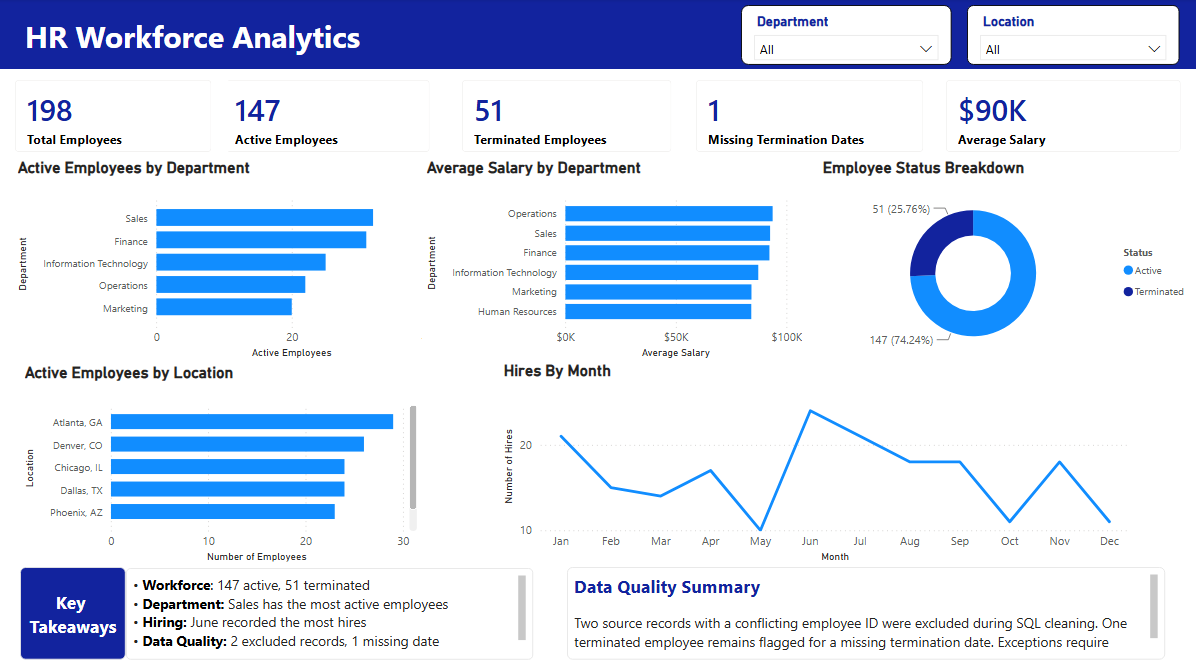

The dashboard page shown, as its layout file describes it:
{"tool":"powerbi","page":{"name":"Page 1","canvas":[1280,720],"ordinal":0},"visuals":[{"type":"cardVisual","fields":{"Data":["employees_clean.Active Headcount"]},"box":[222.2,69.4,255.3,111.1],"z":0},{"type":"cardVisual","fields":{"Data":["employees_clean.Total Employees"]},"box":[0,69.4,244.6,111.1],"z":1000},{"type":"cardVisual","fields":{"Data":["employees_clean.Terminated Employees"]},"box":[477.5,69.4,258.5,111.1],"z":2000},{"type":"cardVisual","fields":{"Data":["employees_clean.Average Salary"]},"box":[994.5,69.4,285.2,111.1],"z":3000},{"type":"clusteredBarChart","title":"Active Employees by Department","fields":{"Category":["employees_clean.department"],"Y":["employees_clean.Active Headcount"]},"box":[15,169.9,462.6,219],"z":4000},{"type":"clusteredBarChart","title":"Average Salary by Department","fields":{"Category":["employees_clean.department"],"Y":["employees_clean.Average Salary"]},"box":[451.9,169.9,411.3,219],"z":5000},{"type":"clusteredBarChart","title":"Active Employees by Location","fields":{"Category":["employees_clean.location"],"Y":["employees_clean.Active Employees"]},"box":[22.5,388.8,429,217.5],"z":7000},{"type":"lineChart","title":"Hires By Month","fields":{"Y":["Count(employees_clean.employee_id)"],"Category":["employees_clean.Month Short"]},"box":[534.2,386.5,678.4,219.8],"z":8000},{"type":"cardVisual","fields":{"Data":["employees_clean.Missing Termination Dates"]},"box":[727.5,69.4,277.7,111.1],"z":9000},{"type":"textbox","box":[606.3,606.3,639.4,99.3],"z":10000},{"type":"shape","box":[0,0,1279.8,74.8],"z":11000},{"type":"textbox","box":[22.4,12.8,575.8,68.4],"z":12000},{"type":"slicer","fields":{"Values":["employees_clean.location"]},"box":[1034.2,5.9,226.9,63.8],"z":13000},{"type":"slicer","fields":{"Values":["employees_clean.department"]},"box":[793.1,5.9,224.6,63.8],"z":14000},{"type":"textbox","box":[135.9,607.5,434.9,98.1],"z":15000},{"type":"textbox","box":[22.5,606.3,113.5,99.3],"z":16000},{"type":"donutChart","title":"Employee Status Breakdown","fields":{"Category":["employees_clean.employment_status"],"Y":["Count(employees_clean.employee_id)"]},"box":[874.6,170.2,405.4,216.3],"z":16500}]}

Visuals, with their boxes in screenshot pixels (x1, y1, x2, y2), scaled from the page's 1280x720 canvas onto the 1196x672 screenshot:
cardVisual - employees_clean.Active Headcount: l=208, t=65, r=446, b=168
cardVisual - employees_clean.Total Employees: l=0, t=65, r=229, b=168
cardVisual - employees_clean.Terminated Employees: l=446, t=65, r=688, b=168
cardVisual - employees_clean.Average Salary: l=929, t=65, r=1195, b=168
"Active Employees by Department" clusteredBarChart: l=14, t=159, r=446, b=363
"Average Salary by Department" clusteredBarChart: l=422, t=159, r=807, b=363
"Active Employees by Location" clusteredBarChart: l=21, t=363, r=422, b=566
"Hires By Month" lineChart: l=499, t=361, r=1133, b=566
cardVisual - employees_clean.Missing Termination Dates: l=680, t=65, r=939, b=168
textbox: l=567, t=566, r=1164, b=659
shape: l=0, t=0, r=1195, b=70
textbox: l=21, t=12, r=559, b=76
slicer - employees_clean.location: l=966, t=6, r=1178, b=65
slicer - employees_clean.department: l=741, t=6, r=951, b=65
textbox: l=127, t=567, r=533, b=659
textbox: l=21, t=566, r=127, b=659
"Employee Status Breakdown" donutChart: l=817, t=159, r=1195, b=361
